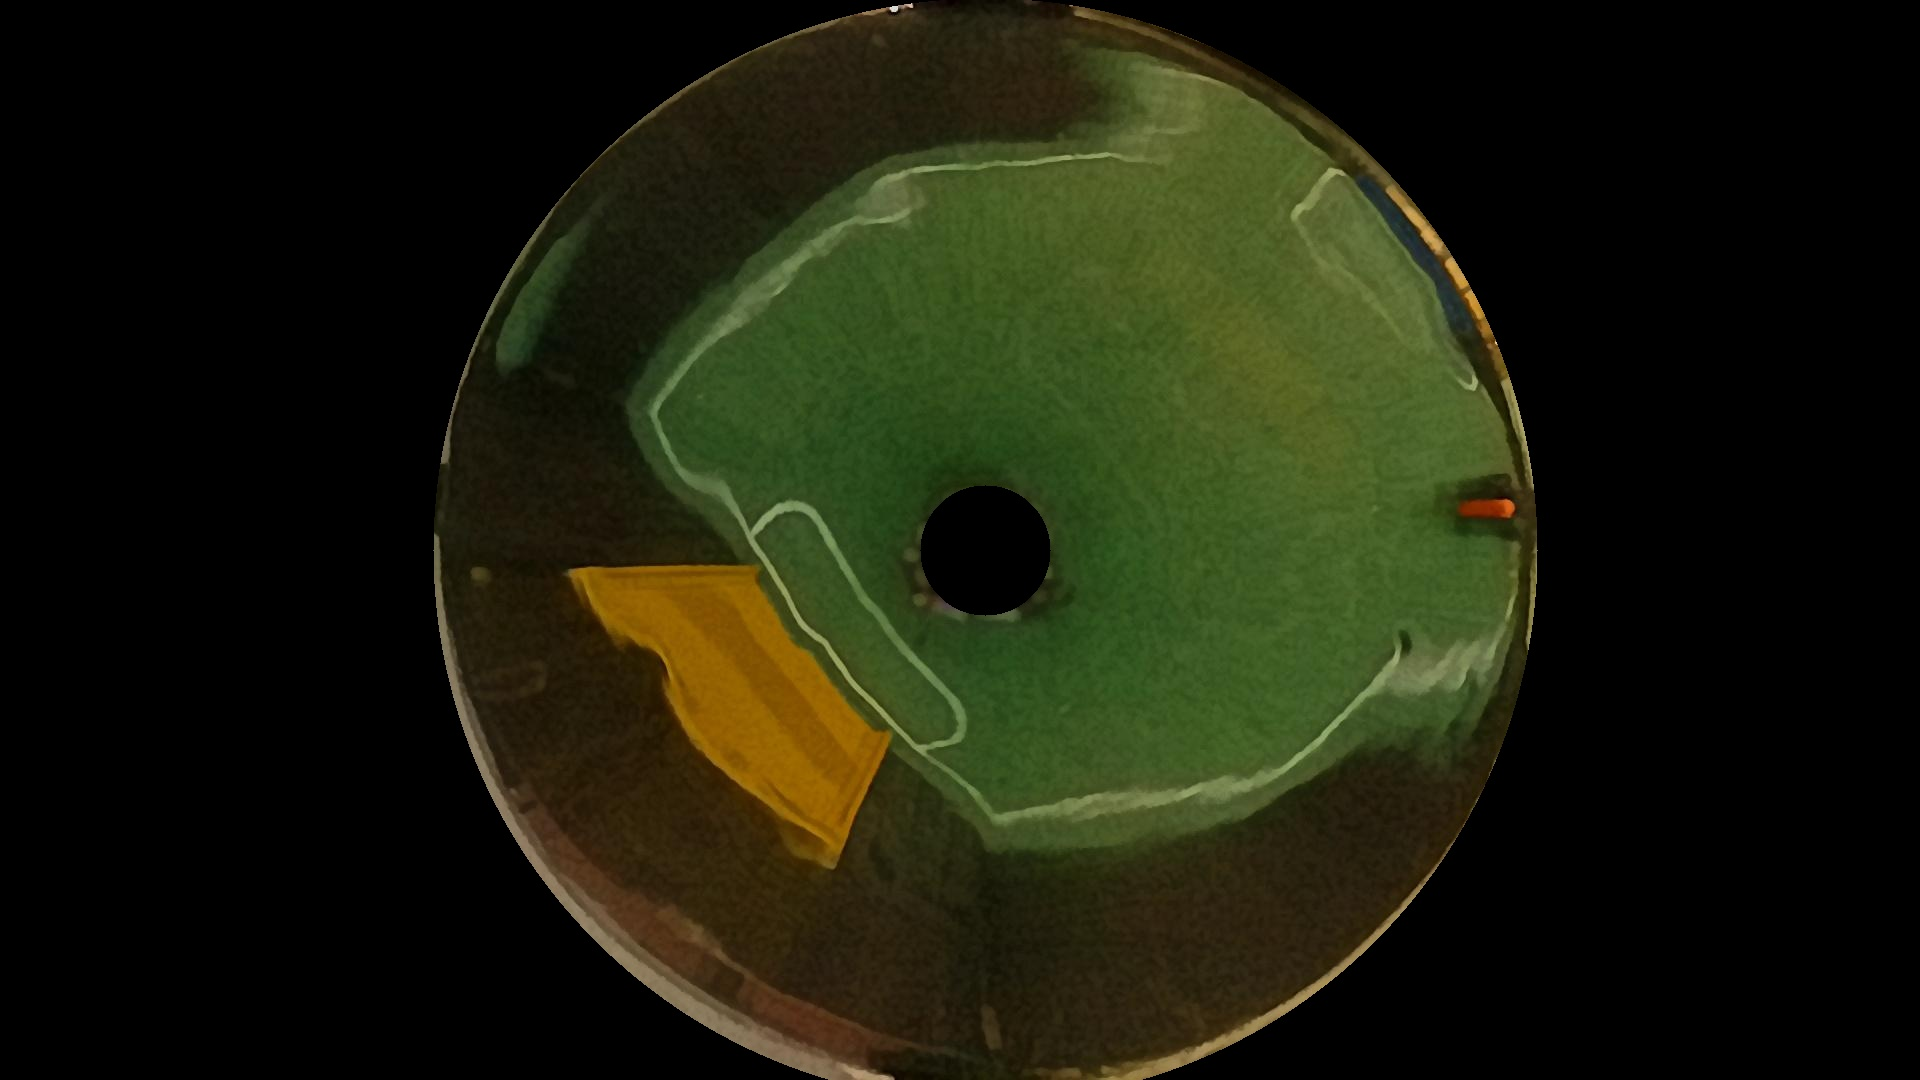ball: (1453, 498, 1519, 520)
blue-goal: (1338, 156, 1494, 344)
robots: (1455, 473, 1551, 547)
yellow-goal: (553, 554, 894, 864)
